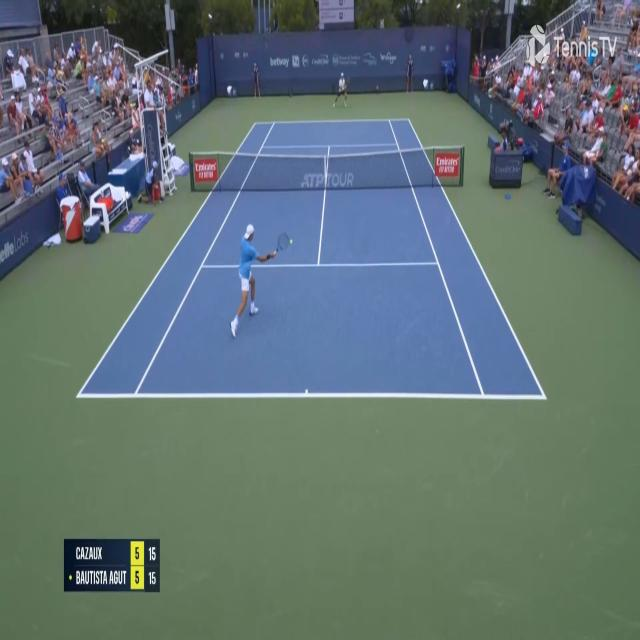tennis-player: (226, 218, 294, 343), (332, 72, 349, 111)
